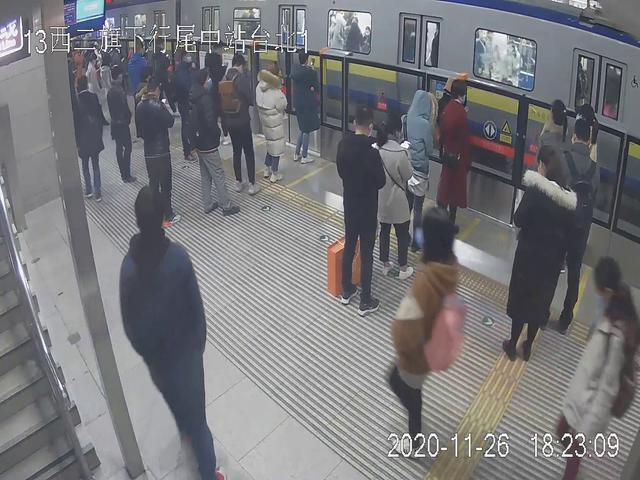person: (122, 186, 226, 480), (556, 256, 640, 480), (388, 206, 456, 440), (508, 137, 568, 358), (548, 120, 599, 340), (334, 104, 381, 311), (135, 80, 184, 230), (188, 66, 235, 219), (395, 89, 438, 253), (378, 122, 417, 283), (224, 51, 263, 191), (435, 78, 469, 237), (251, 59, 291, 183), (285, 42, 325, 166), (72, 71, 110, 201), (106, 64, 143, 189)
